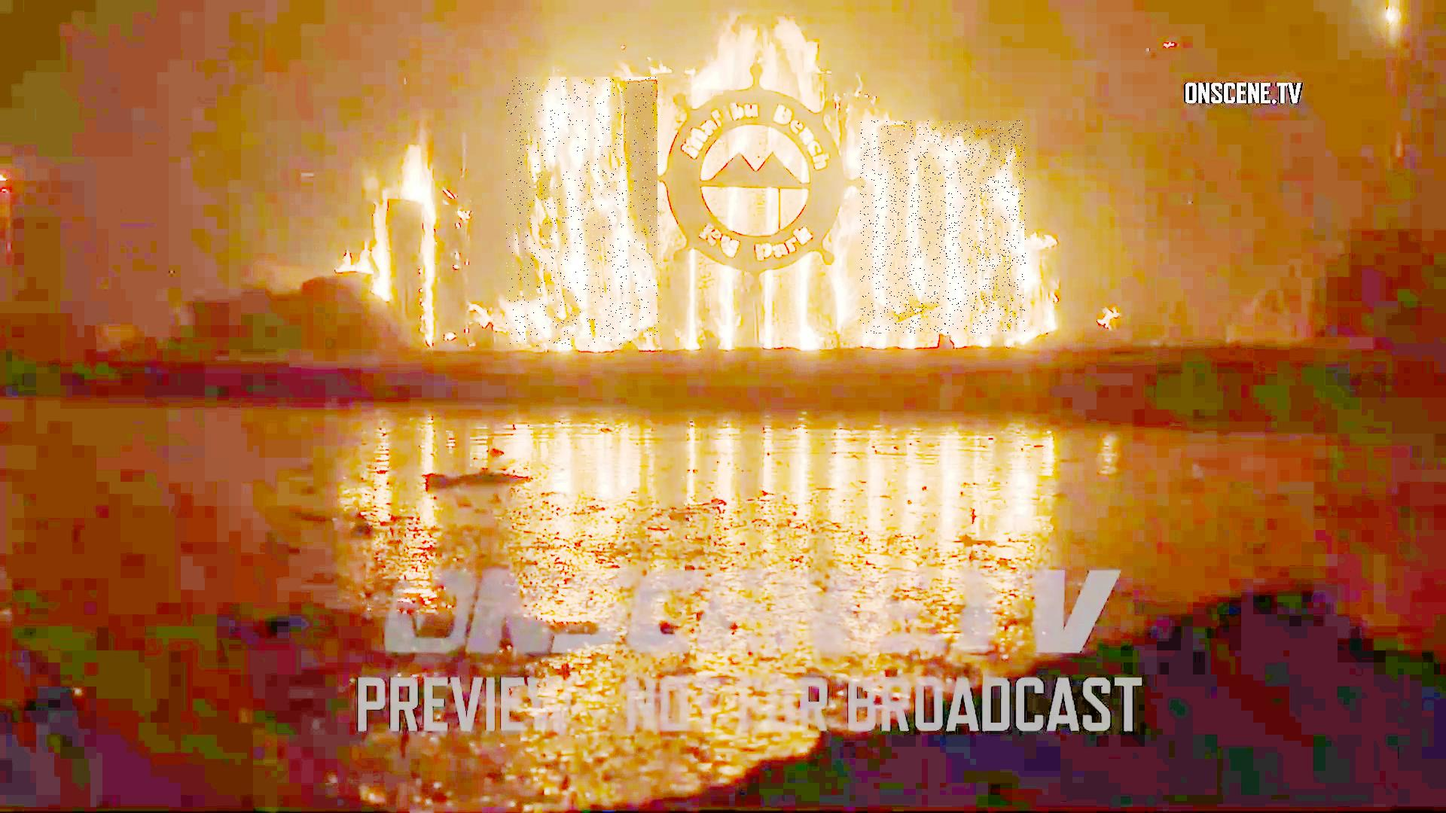fire: (507, 77, 660, 347), (861, 121, 1026, 333)
